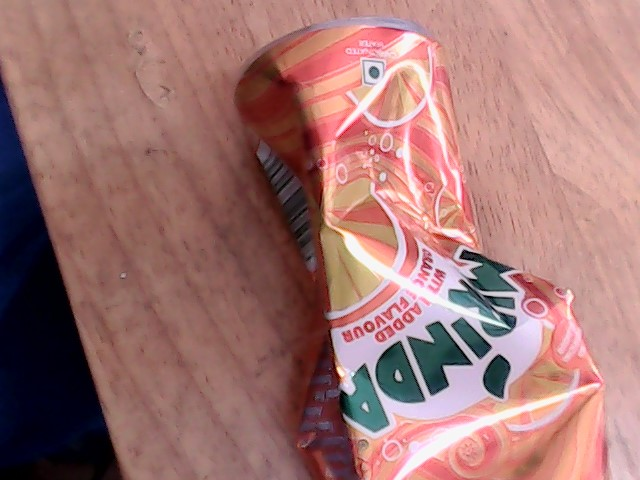Metal: (238, 58, 612, 480)
